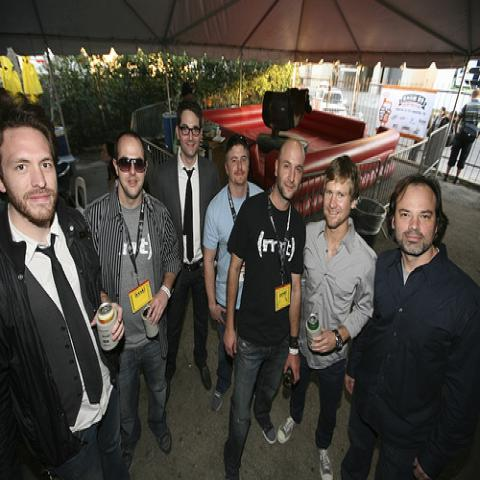car: (319, 86, 348, 116)
